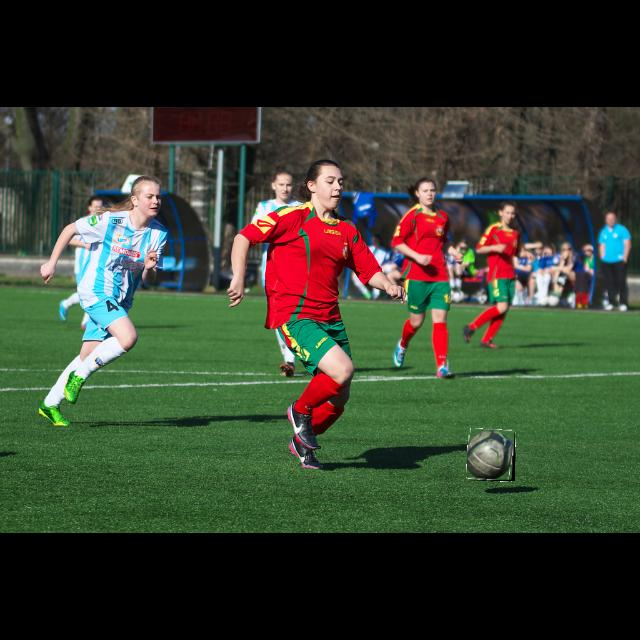Football: (467, 429, 515, 481)
